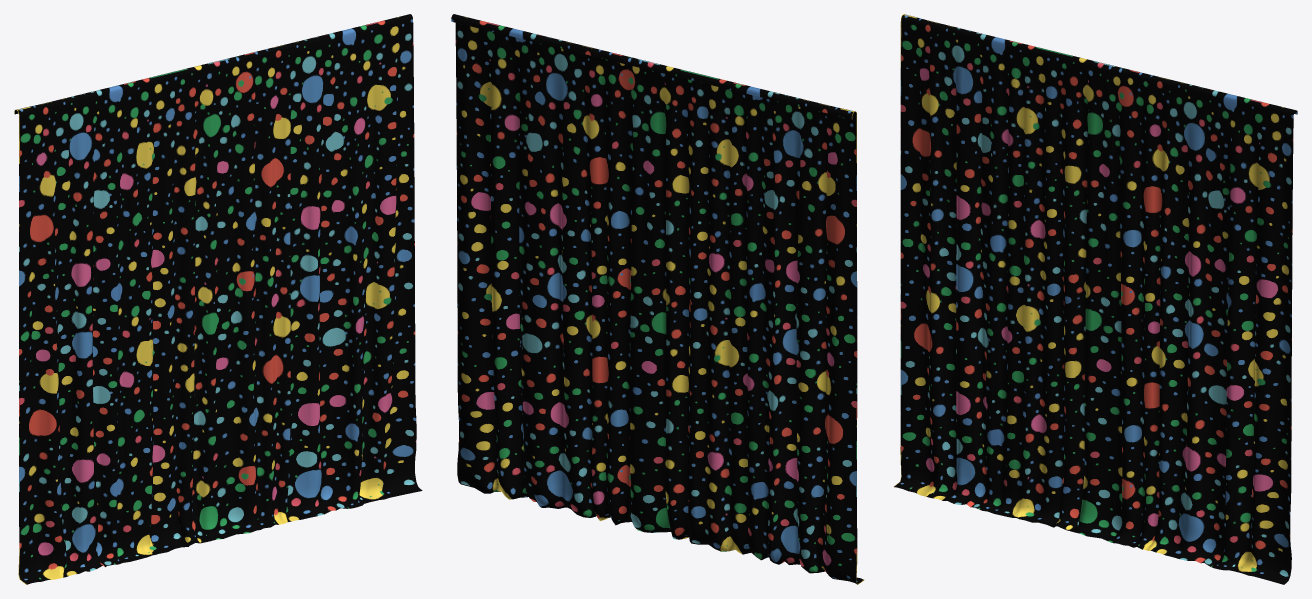
Rendered from Rideau.fbx.
The picture shows the model from 3 angles, left to right: view 1: azimuth 30°, elevation 25°; view 2: azimuth 150°, elevation 25°; view 3: azimuth 330°, elevation 25°; orthographic projection. The views are drawn at different scales.
Parts seen in each view (by area): view 1: SM_PartyBackdrop01_3__1_; view 2: SM_PartyBackdrop01_3__1_; view 3: SM_PartyBackdrop01_3__1_.
Boxes of the visible parts, x1=… form: SM_PartyBackdrop01_3__1_: x1=14, y1=14, x2=422, y2=584; SM_PartyBackdrop01_3__1_: x1=451, y1=14, x2=864, y2=584; SM_PartyBackdrop01_3__1_: x1=893, y1=14, x2=1297, y2=584.
Size of the model in its own units: 300 by 341 by 19.63.
